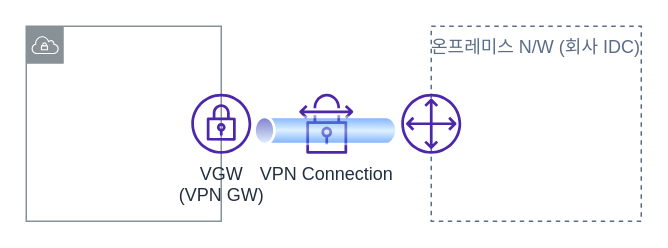
The diagram is 668 pixels wide and 248 high, and some of its shapes have lost their labels. The box of each missing label's shape, as (x1, y1, x2, y2) in pixels:
CGW: (400, 93, 460, 153)
VPC: (25, 25, 221, 221)
